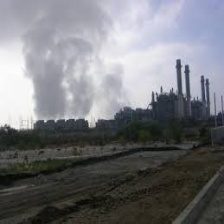smoke: (4, 1, 126, 117)
